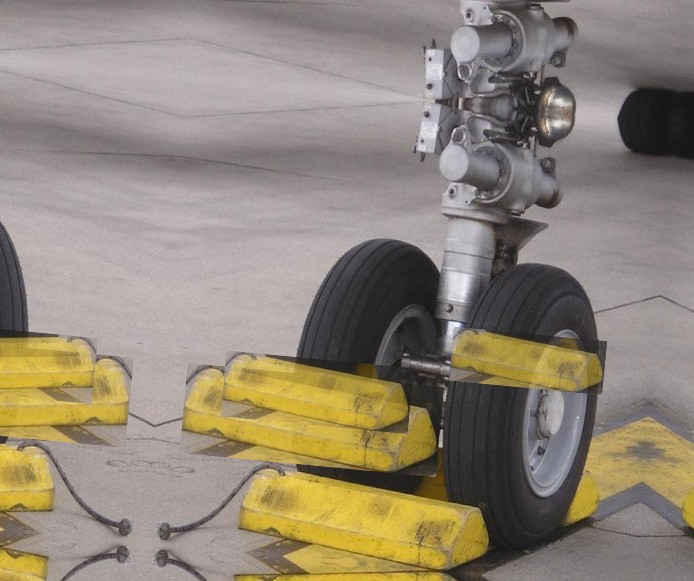chock: (179, 363, 444, 477), (237, 464, 497, 576), (221, 351, 414, 434), (0, 333, 133, 448), (449, 327, 607, 395), (0, 320, 97, 404)
wheel: (438, 257, 610, 556), (281, 230, 454, 495), (614, 118, 674, 156), (617, 86, 677, 123)
